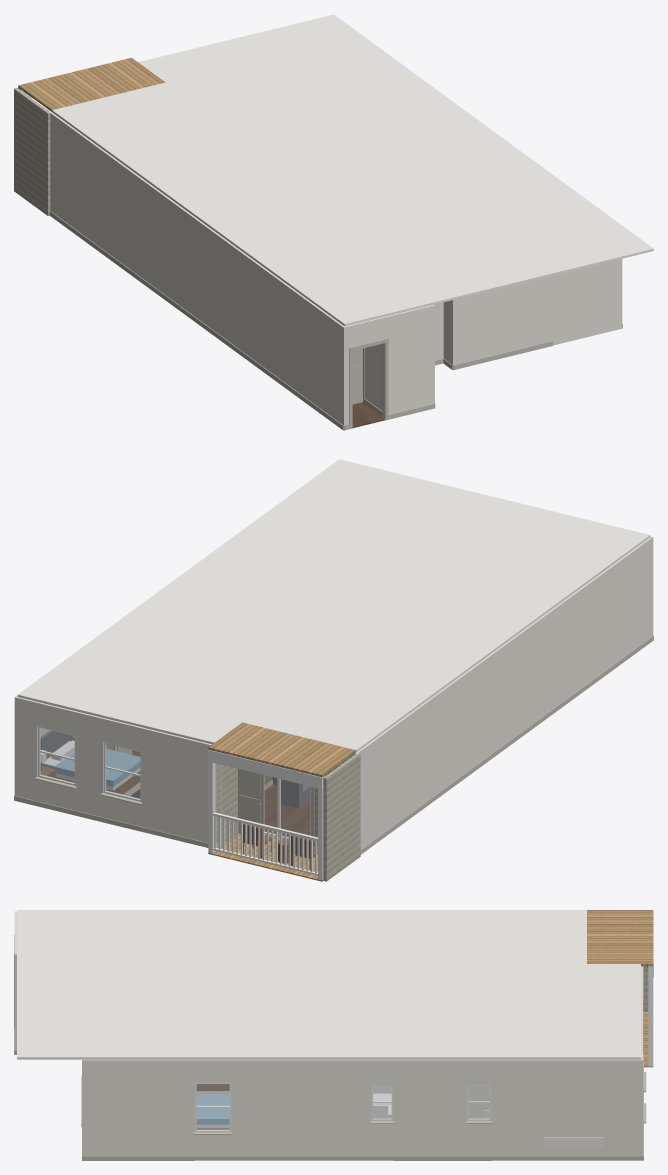
File: unit.glb
3 views of the same model, one above another, from view 1: azimuth 30°, elevation 25°; view 2: azimuth 150°, elevation 25°; view 3: azimuth 270°, elevation 25° (orthographic). The views are drawn at different scales.
Visible parts, largest first — view 1: ceiling, wall, trim, deck, siding; view 2: ceiling, wall, white, siding, deck, glass, trim, lvp, walnut, pillow, fabric; view 3: ceiling, wall, deck, trim, glass, white, pillow, linen.
Part boxes in pixels (left/top/right/bottom): ceiling: left=52, top=14, right=653, bottom=326; wall: left=49, top=111, right=622, bottom=425; trim: left=49, top=211, right=622, bottom=430; deck: left=18, top=57, right=164, bottom=111; siding: left=14, top=88, right=50, bottom=215; ceiling: left=17, top=459, right=650, bottom=751; wall: left=14, top=536, right=653, bottom=849; white: left=38, top=726, right=324, bottom=880; siding: left=216, top=753, right=360, bottom=881; deck: left=208, top=722, right=356, bottom=881; glass: left=40, top=728, right=309, bottom=837; trim: left=14, top=635, right=653, bottom=854; lvp: left=132, top=750, right=310, bottom=836; walnut: left=40, top=737, right=317, bottom=870; pillow: left=42, top=749, right=140, bottom=786; fabric: left=40, top=730, right=310, bottom=808; ceiling: left=17, top=910, right=640, bottom=1059; wall: left=14, top=911, right=643, bottom=1155; deck: left=587, top=910, right=653, bottom=1067; trim: left=14, top=935, right=646, bottom=1160; glass: left=197, top=1084, right=489, bottom=1129; white: left=194, top=912, right=653, bottom=1132; pillow: left=196, top=1094, right=229, bottom=1124; linen: left=196, top=1110, right=603, bottom=1147.
Size of what is drawn, in the model's own units: 8.91 by 2.84 by 15.91.
26 materials, 8 textured.
